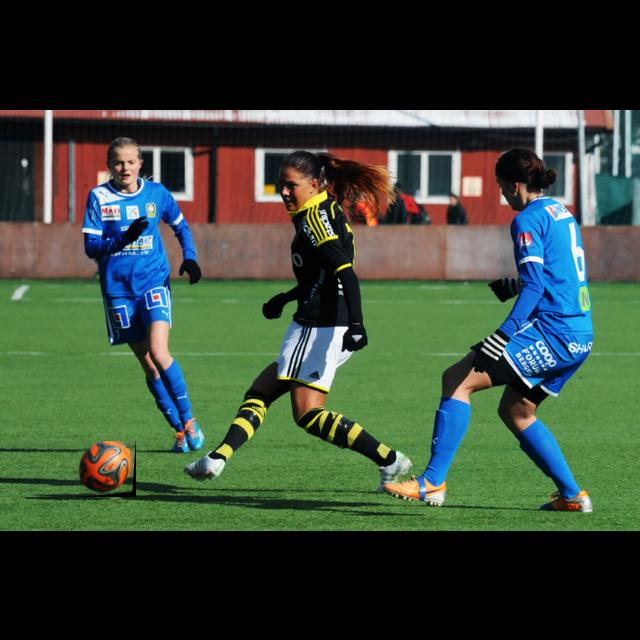Football: (78, 441, 136, 497)
